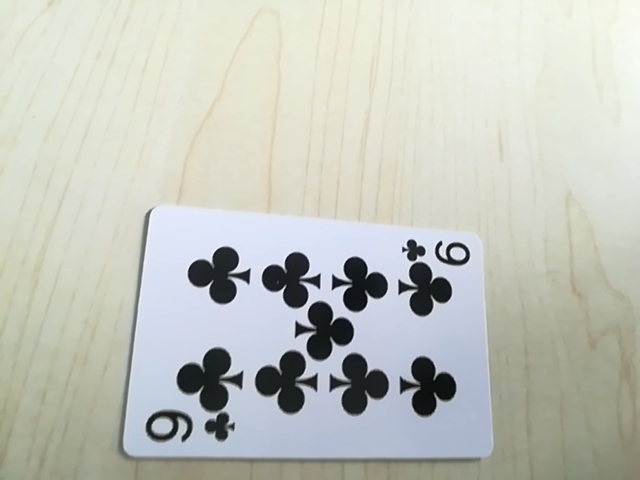mh 9: (143, 407, 238, 453), (402, 233, 474, 268)
